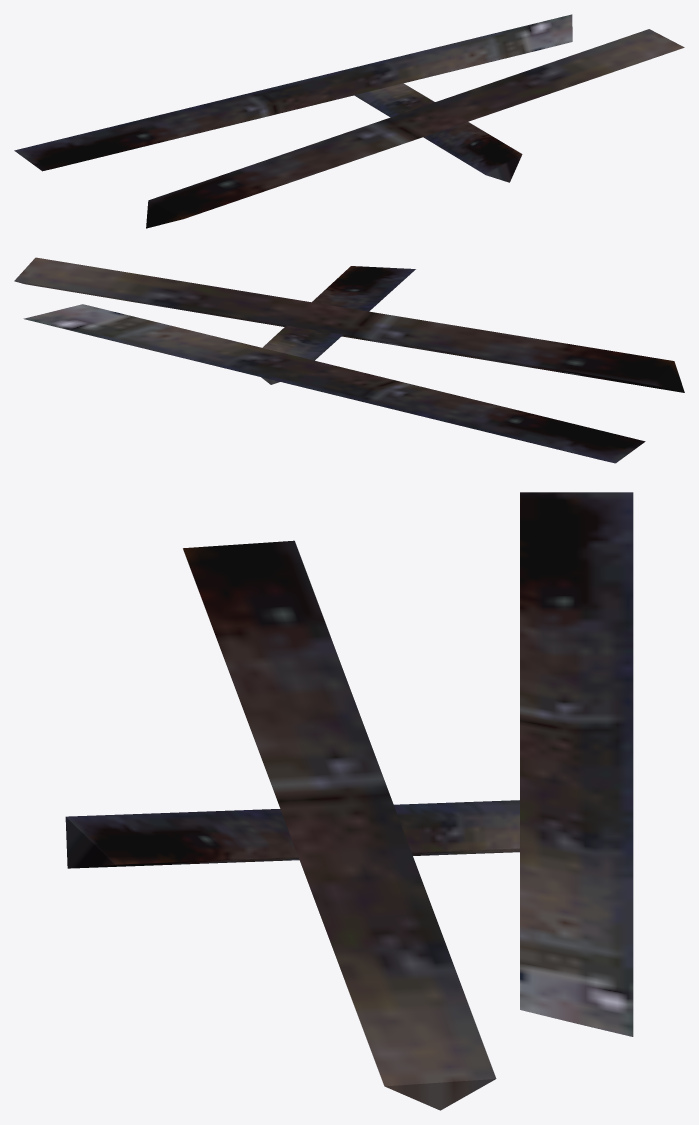
Rendered from Civilian - Civilian Building - Bridg D 10 - CBBridgD10.glb.
The picture shows the model from 3 angles, top to bottom: view 1: azimuth 30°, elevation 25°; view 2: azimuth 150°, elevation 25°; view 3: azimuth 270°, elevation 25°; orthographic projection. The views are drawn at different scales.
Visible parts, largest first — view 1: CBBRIDGD10; view 2: CBBRIDGD10; view 3: CBBRIDGD10.
Boxes of the visible parts, left/top/right/bottom form: CBBRIDGD10: left=14, top=14, right=684, bottom=228; CBBRIDGD10: left=14, top=257, right=684, bottom=463; CBBRIDGD10: left=65, top=492, right=633, bottom=1110.
Size of the model in its own units: 30.68 by 0.7339 by 12.39.
Materials: 1 (1 with a texture image).
